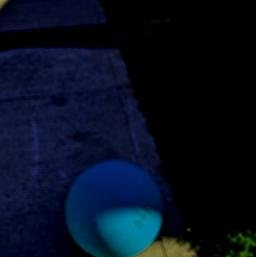algae: (68, 160, 163, 257)
